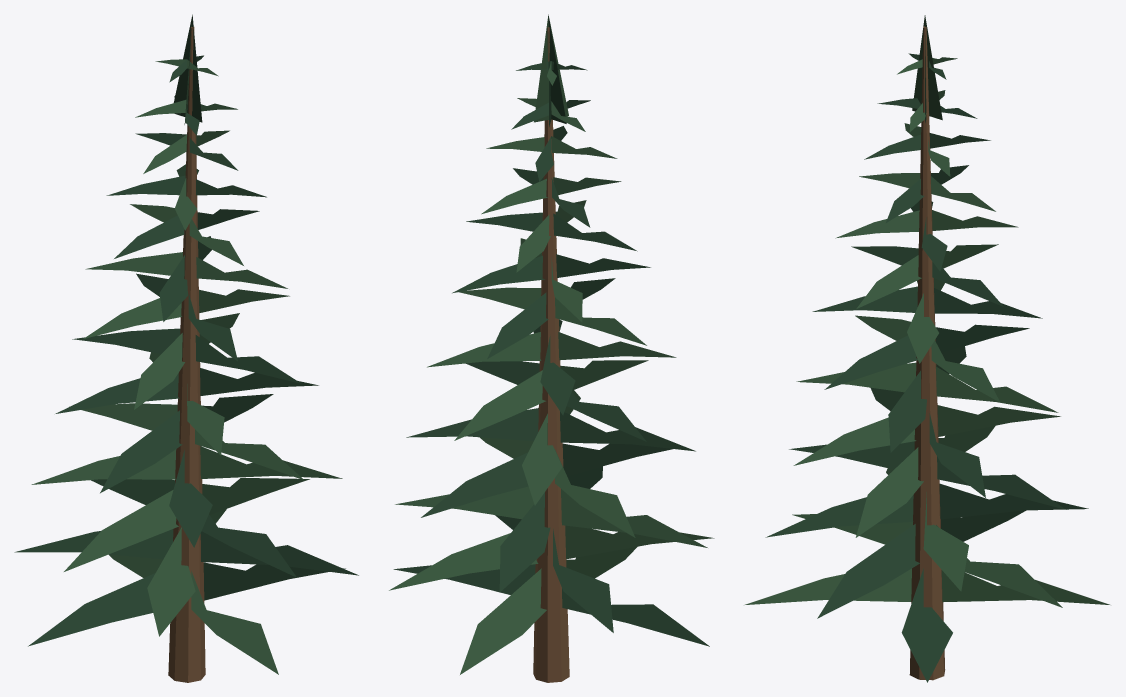
The model's file is detail_pine_impostor.glb.
3 renders of one model, left to right at view 1: azimuth 30°, elevation 25°; view 2: azimuth 150°, elevation 25°; view 3: azimuth 270°, elevation 25°, orthographic.
Parts seen in each view (by area): view 1: LayeredFarCrown, FarSilhouetteTrunk; view 2: LayeredFarCrown, FarSilhouetteTrunk; view 3: LayeredFarCrown, FarSilhouetteTrunk.
Part boxes in pixels (bbox=[...]): LayeredFarCrown: bbox=[14, 14, 358, 674]; FarSilhouetteTrunk: bbox=[168, 27, 205, 682]; LayeredFarCrown: bbox=[389, 14, 714, 674]; FarSilhouetteTrunk: bbox=[533, 27, 569, 682]; LayeredFarCrown: bbox=[745, 15, 1109, 682]; FarSilhouetteTrunk: bbox=[909, 26, 945, 680].
Size of the model in its own units: 5.92 by 11.73 by 5.92.
